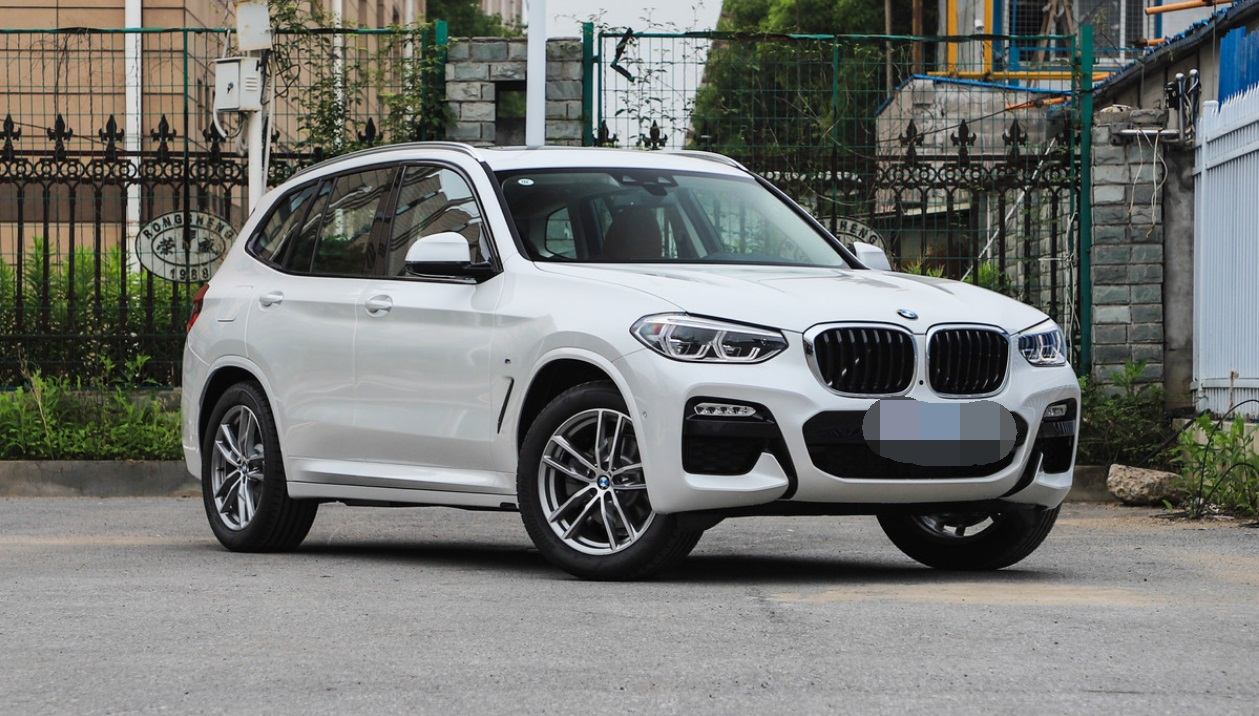SUV: (177, 135, 1084, 577)
